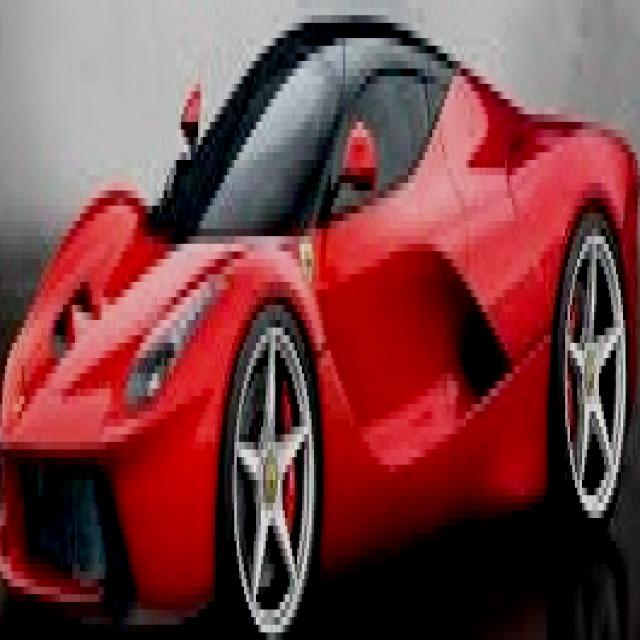red: (2, 15, 640, 602)
